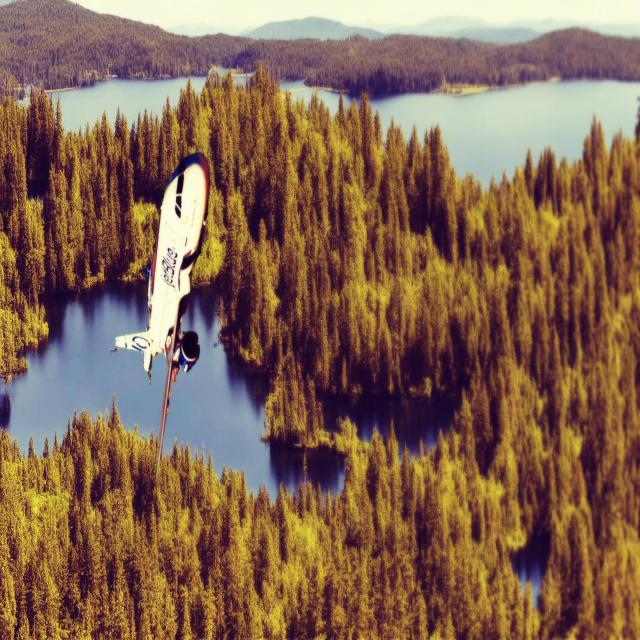airplane: (109, 150, 210, 478)
